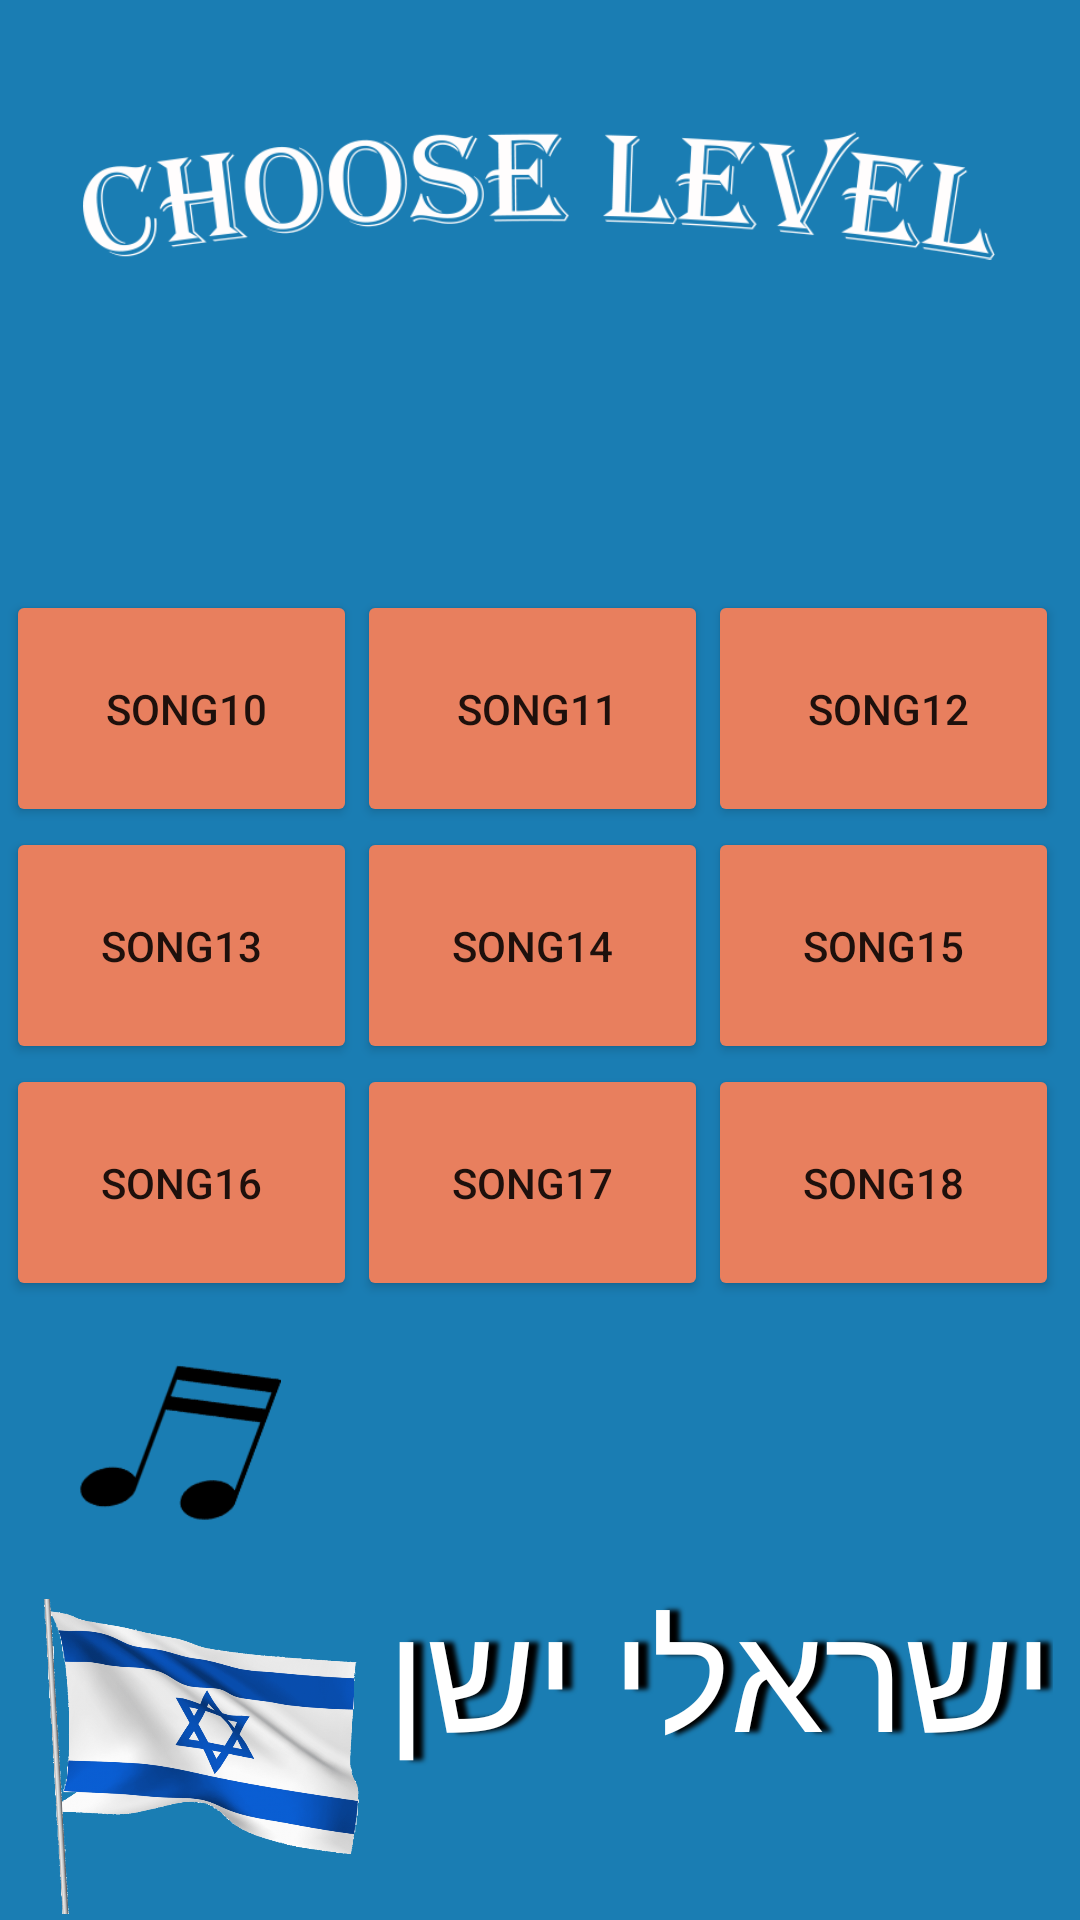

Named icons in this screenshot (1080 × 1920) and their centers, point (x, y):
israelflag: point (201, 1756)
